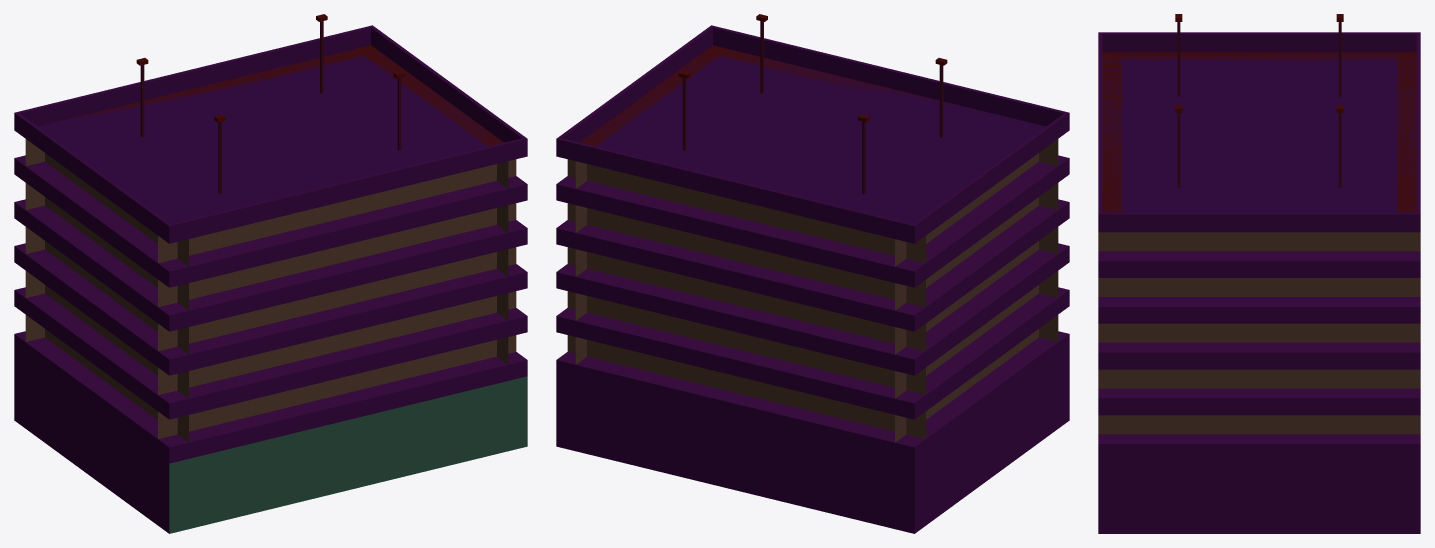
Rendered from carpark_a.glb.
3 renders of one model, left to right at view 1: azimuth 30°, elevation 25°; view 2: azimuth 150°, elevation 25°; view 3: azimuth 270°, elevation 25°, orthographic. The views are drawn at different scales.
Visible parts, largest first — view 1: carpark_a; view 2: carpark_a; view 3: carpark_a.
Part boxes in pixels (bbox=[...]): carpark_a: bbox=[14, 14, 527, 533]; carpark_a: bbox=[556, 14, 1069, 533]; carpark_a: bbox=[1098, 14, 1420, 533].
Bounding box in the file's own units: 25.6 × 25.05 × 19.2.
